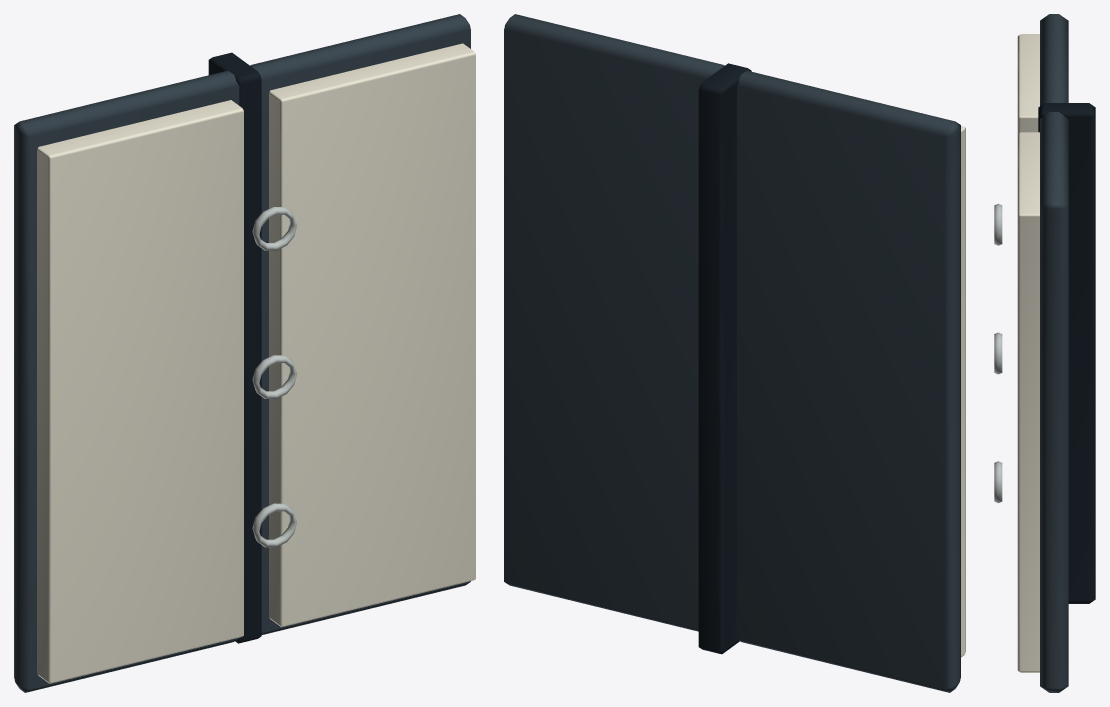
The model's file is P071_script_binder_rebuilt.glb.
3 views of the same model, side by side, from view 1: azimuth 30°, elevation 25°; view 2: azimuth 150°, elevation 25°; view 3: azimuth 270°, elevation 25° (orthographic). The views are drawn at different scales.
Parts seen in each view (by area): view 1: white, shell, dark, silver; view 2: shell, dark, white; view 3: shell, white, dark, silver.
Part boxes in pixels (bbox=[...]): white: bbox=[37, 43, 475, 683]; shell: bbox=[14, 14, 470, 692]; dark: bbox=[208, 52, 261, 643]; silver: bbox=[252, 207, 296, 547]; shell: bbox=[504, 14, 960, 692]; dark: bbox=[698, 63, 751, 654]; white: bbox=[961, 126, 965, 657]; shell: bbox=[1040, 14, 1068, 692]; white: bbox=[1017, 34, 1039, 672]; dark: bbox=[1038, 103, 1095, 603]; silver: bbox=[994, 203, 1002, 503].
Size of the model in its own units: 0.265 by 0.32 by 0.0599.
